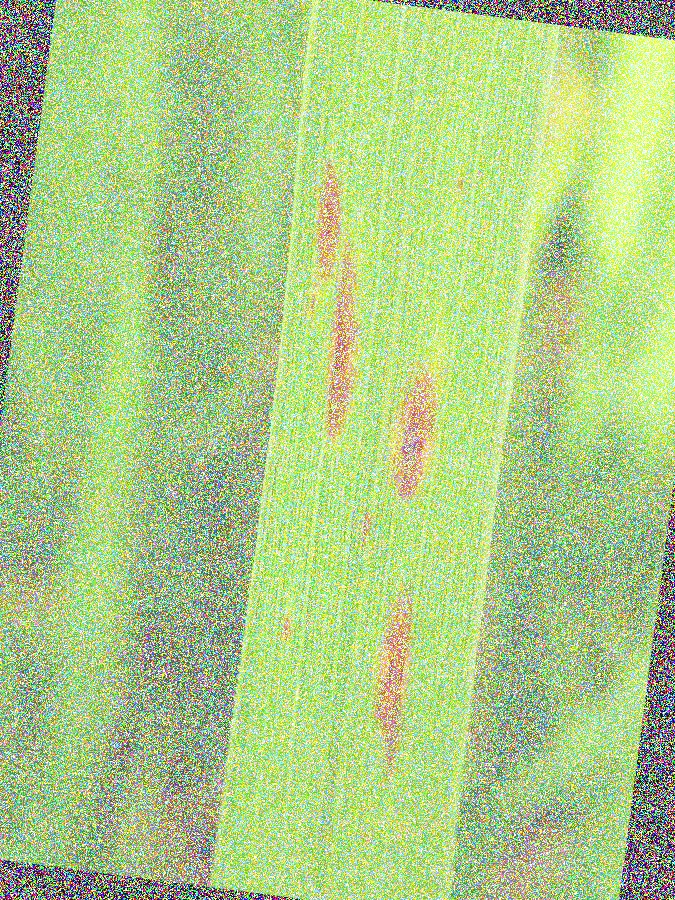Bacterial_Leaf_Blight: (370, 568, 431, 790), (383, 346, 454, 513), (323, 235, 368, 450), (311, 153, 357, 297), (271, 585, 309, 658)
